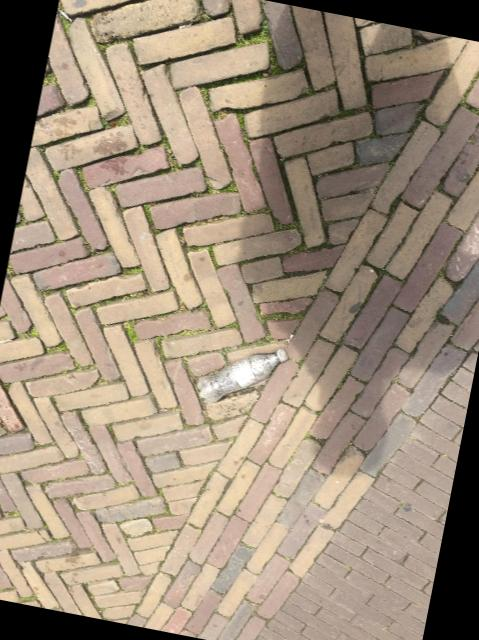plastic: (196, 347, 287, 402)
